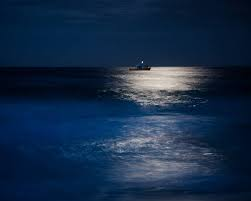boat: (128, 57, 153, 73)
